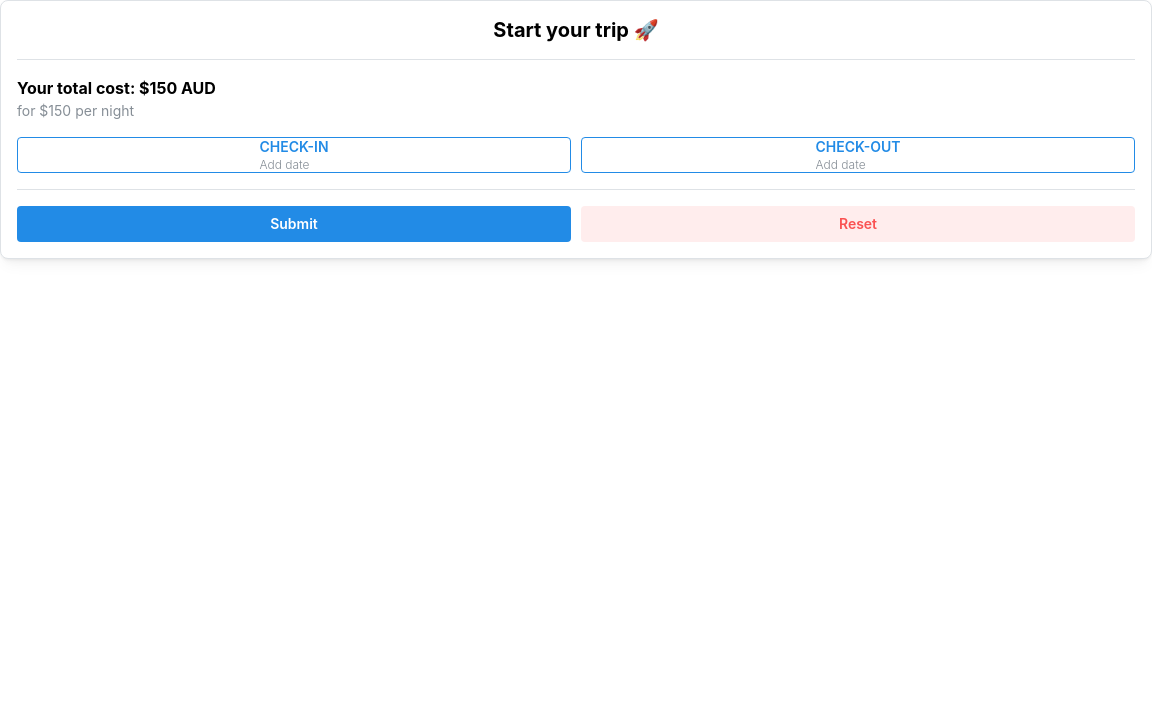
Test case: BookListingBox component › opens date picker popover when clicking CHECK-IN button
Expected: the text "Choose date range" is not shown
Click the button "CHECK-IN Add date" at (294, 155), box [17,137,571,173]
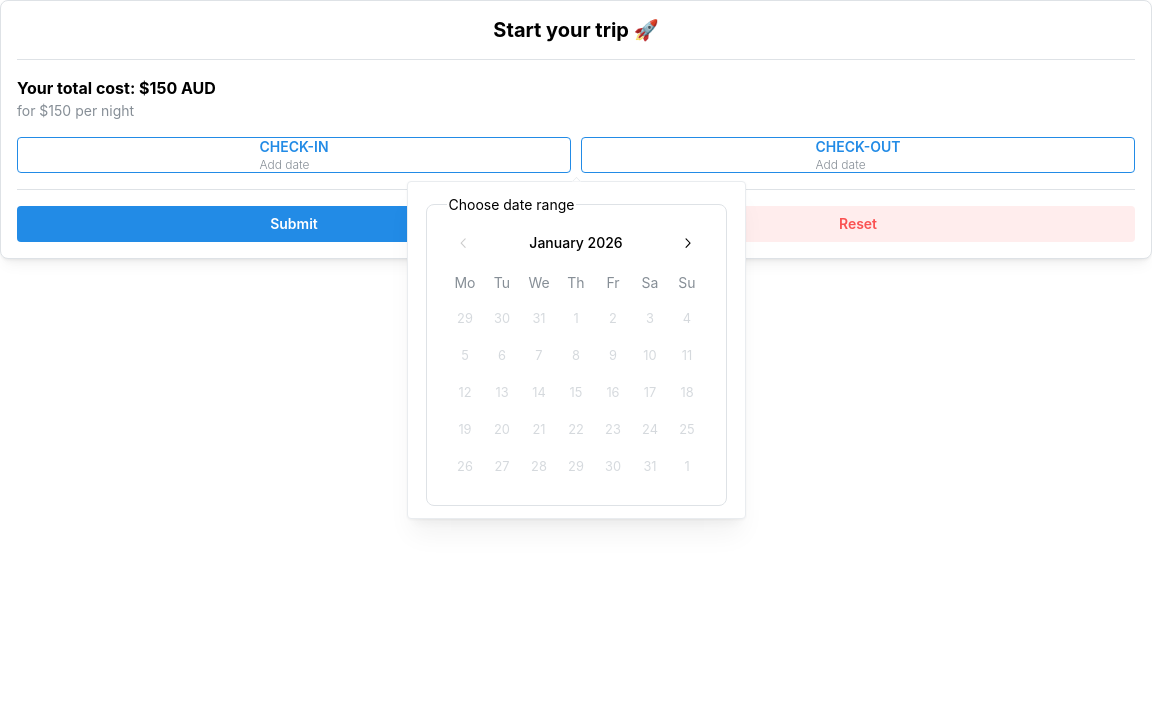
Result: the text "Choose date range" is shown at [446,194,576,215]
Result: the 1st button "29" is shown at [447,300,483,336]
